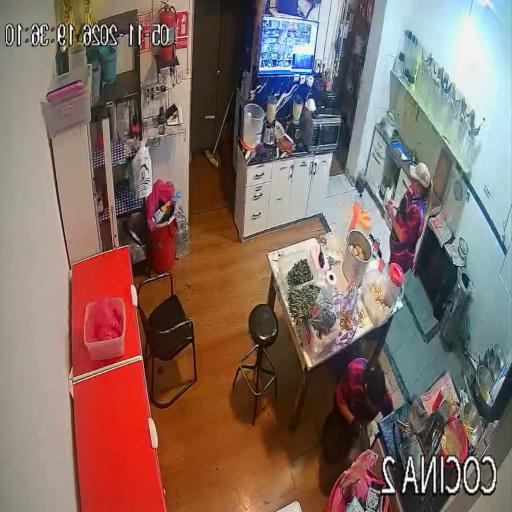Envase Ketchup: (433, 387, 446, 410)
Envase Llajua: (447, 395, 454, 404)
Jarra1: (386, 263, 404, 300)
Jarra2: (355, 211, 372, 237)
Microondas: (301, 104, 341, 152)
Persona1: (322, 358, 393, 463)
Persona2: (386, 162, 432, 273)
Tapa de olla: (459, 237, 468, 255)
Taper: (466, 280, 475, 300)
Taper2: (278, 247, 318, 295)
Taper3: (297, 284, 341, 364)
Taper4: (362, 270, 396, 325)
olla1: (343, 229, 371, 289)
